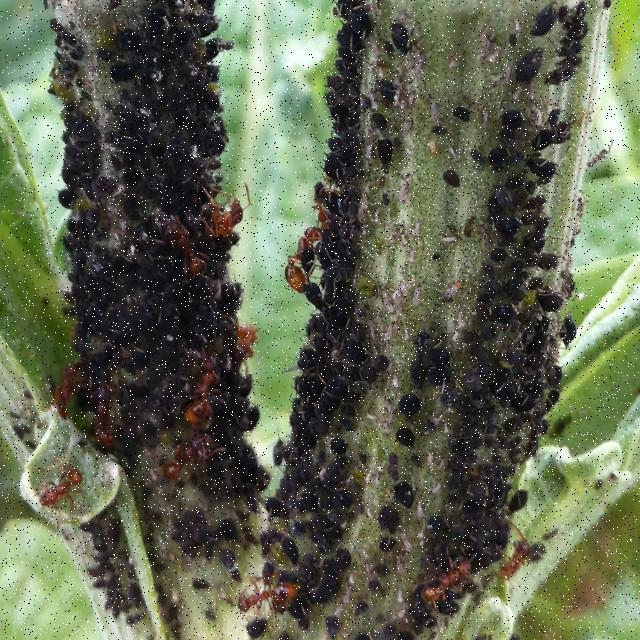Aphids: (271, 219, 335, 309), (197, 173, 252, 267), (483, 522, 543, 593), (227, 312, 276, 380), (173, 359, 218, 433), (421, 541, 476, 600), (266, 563, 312, 631), (408, 565, 463, 621), (227, 568, 268, 616)
